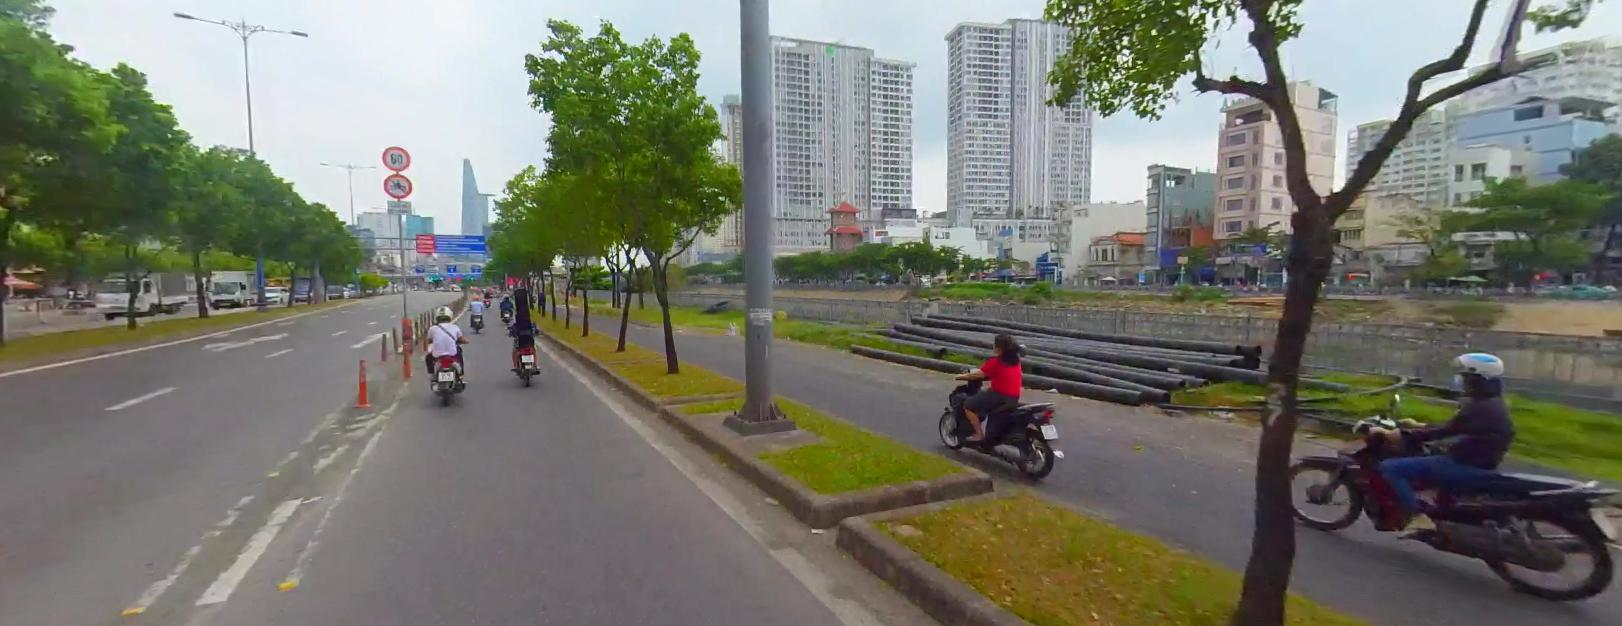Cam con lai: (383, 171, 413, 197)
Gioi han toc do: (381, 145, 410, 170)
